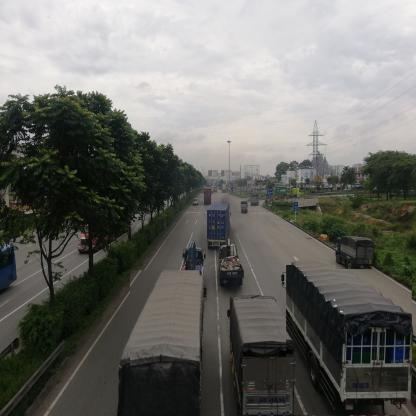car: (194, 200, 198, 207)
container: (210, 204, 232, 248), (275, 187, 301, 202), (205, 190, 211, 206)
truck: (287, 266, 413, 416), (131, 271, 201, 414), (230, 298, 301, 416), (337, 239, 373, 271), (220, 247, 244, 288), (187, 245, 203, 271), (252, 196, 260, 207), (242, 203, 248, 216)
